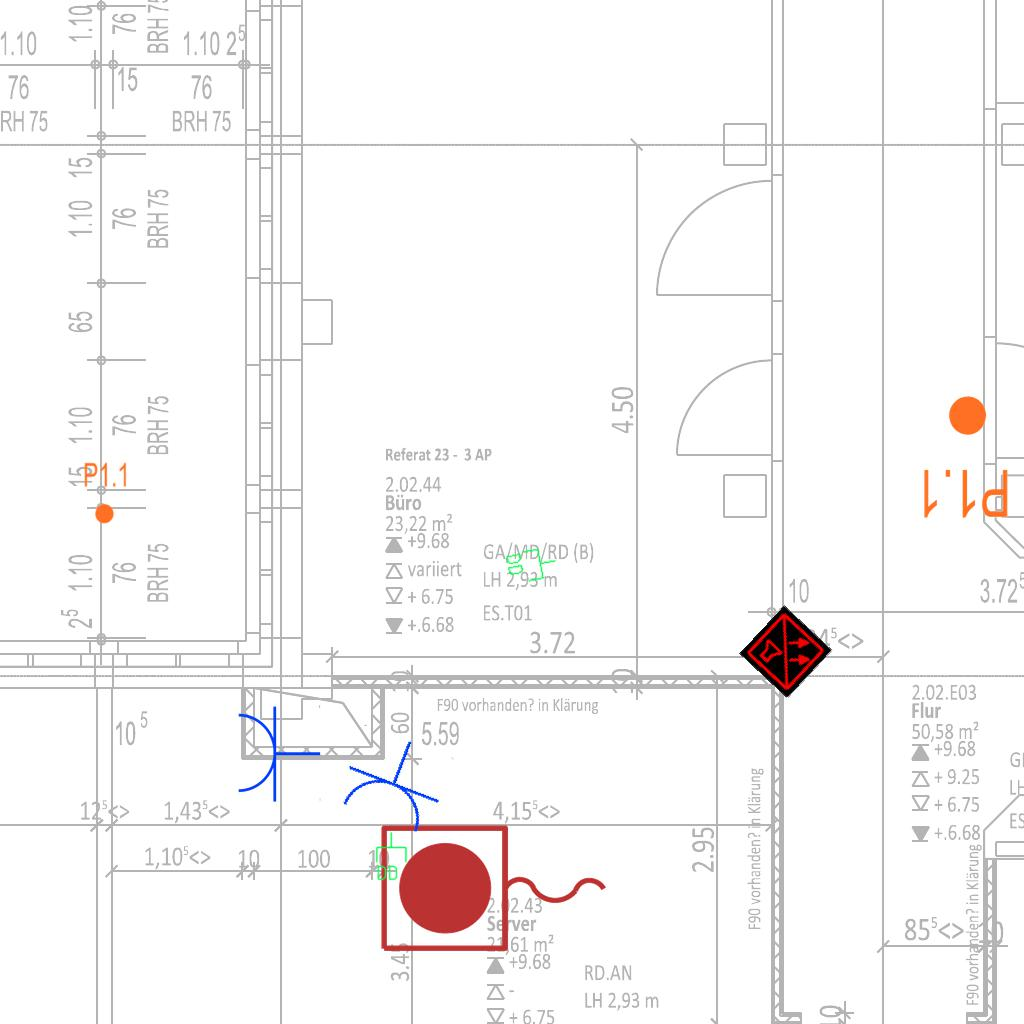Datenanschluss_zweifach: (503, 543, 560, 587), (374, 831, 408, 882)
Downlight_LED_Einbauleuchten_Flur: (918, 393, 1011, 521), (83, 461, 129, 525)
OKW_Multisensormelder_(Kombination_optischer_Rauch-Kahlenmonoxid_Waerme-Melder): (739, 605, 833, 699)
Schukosteckdose_einfach: (331, 722, 457, 841), (234, 703, 321, 803)
Zugtaster: (373, 818, 617, 962)
